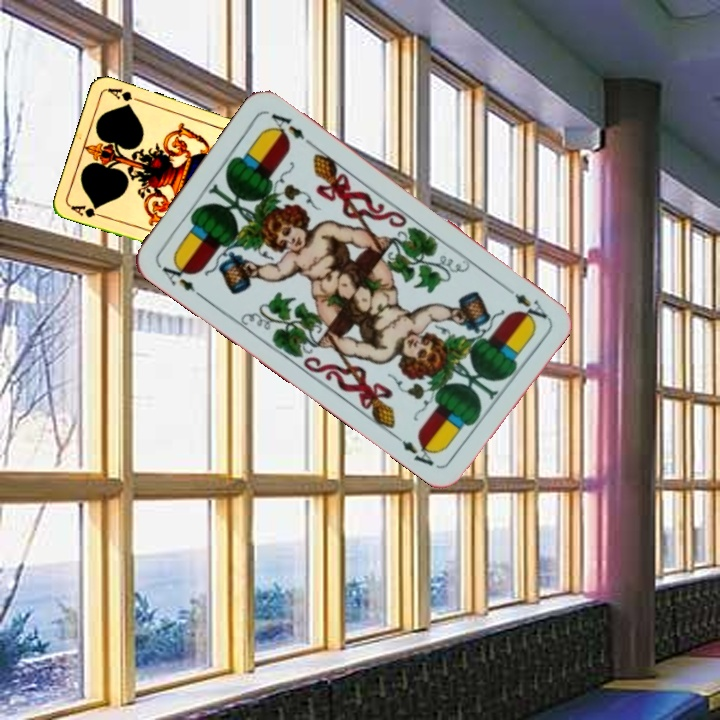EA: (155, 255, 206, 301), (499, 281, 550, 322)
GA: (67, 201, 106, 220)
